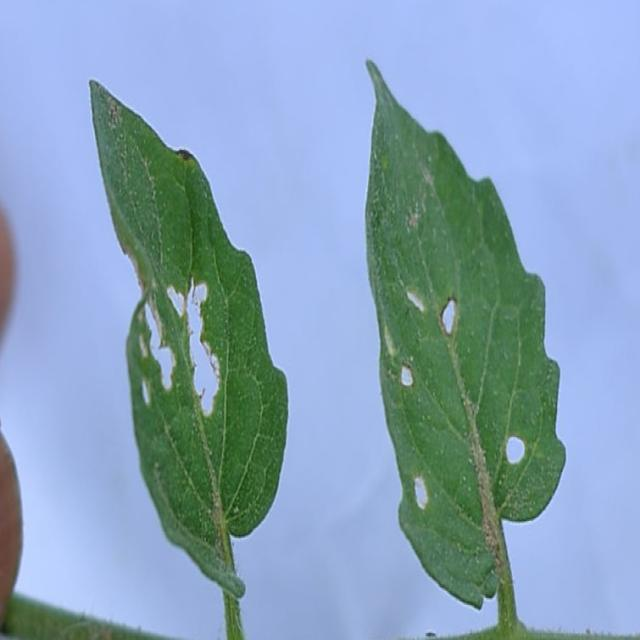infected: (372, 246, 532, 560), (107, 134, 232, 457)
